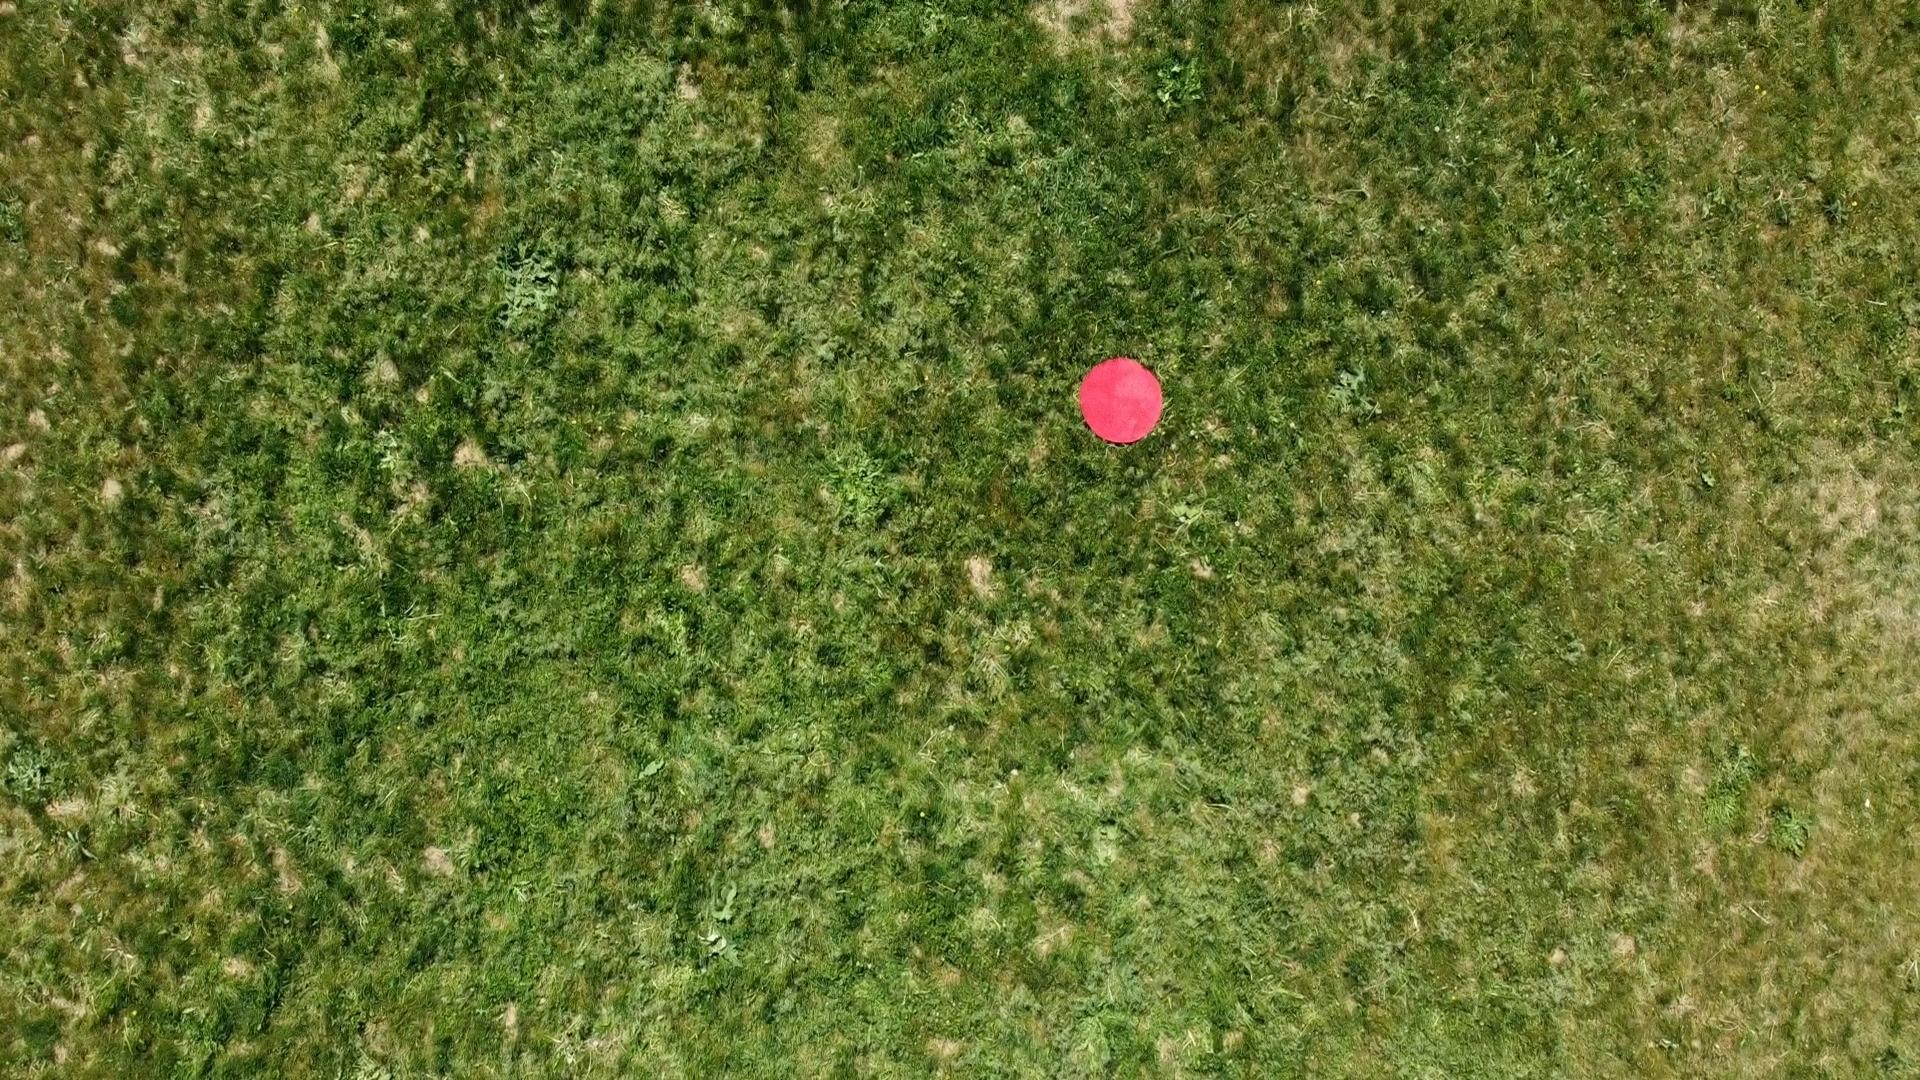Red: (1075, 355, 1168, 446)
